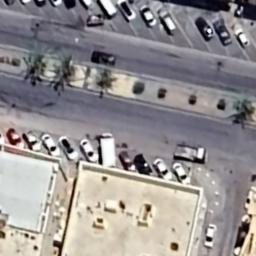SUV: (117, 150, 136, 174)
others: (174, 143, 208, 165)
sedan: (210, 19, 234, 50), (157, 6, 180, 38), (112, 0, 140, 24), (132, 153, 156, 180), (136, 4, 160, 30), (57, 135, 80, 162), (193, 14, 215, 42), (4, 126, 26, 152), (152, 156, 172, 183), (40, 134, 61, 158), (80, 137, 99, 163), (90, 49, 117, 67), (172, 162, 192, 186), (232, 26, 252, 50), (22, 130, 41, 154), (202, 222, 216, 252), (62, 0, 80, 9), (32, 0, 49, 8), (47, 0, 63, 8), (2, 0, 18, 7), (17, 0, 33, 6)
truck: (96, 130, 120, 170)
van: (94, 0, 120, 20), (77, 0, 93, 8)
